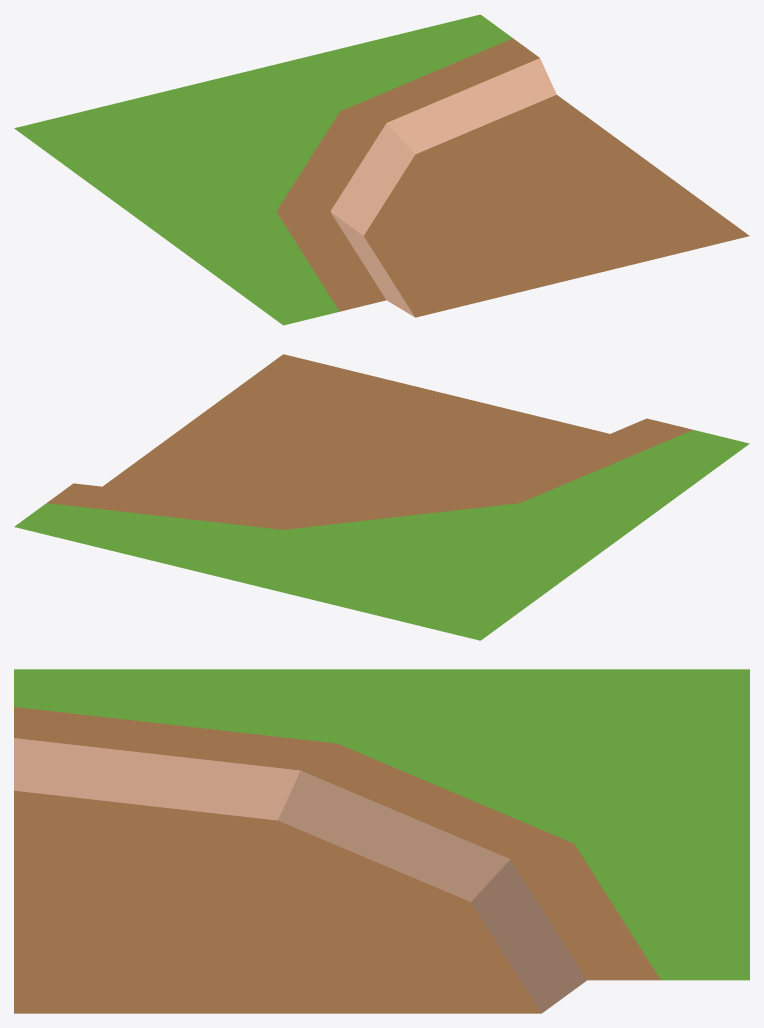
File: ground_pathCorner.glb
3 renders of one model, top to bottom at view 1: azimuth 30°, elevation 25°; view 2: azimuth 150°, elevation 25°; view 3: azimuth 270°, elevation 25°, orthographic. The views are drawn at different scales.
Visible parts, largest first — view 1: ground_pathCorner; view 2: ground_pathCorner; view 3: ground_pathCorner.
Boxes of the visible parts, x1,y1,x2,y2 form: ground_pathCorner: (14,14,749,325); ground_pathCorner: (14,354,749,640); ground_pathCorner: (14,669,749,1013).
Bounding box in the file's own units: 1 × 0.05 × 1.
